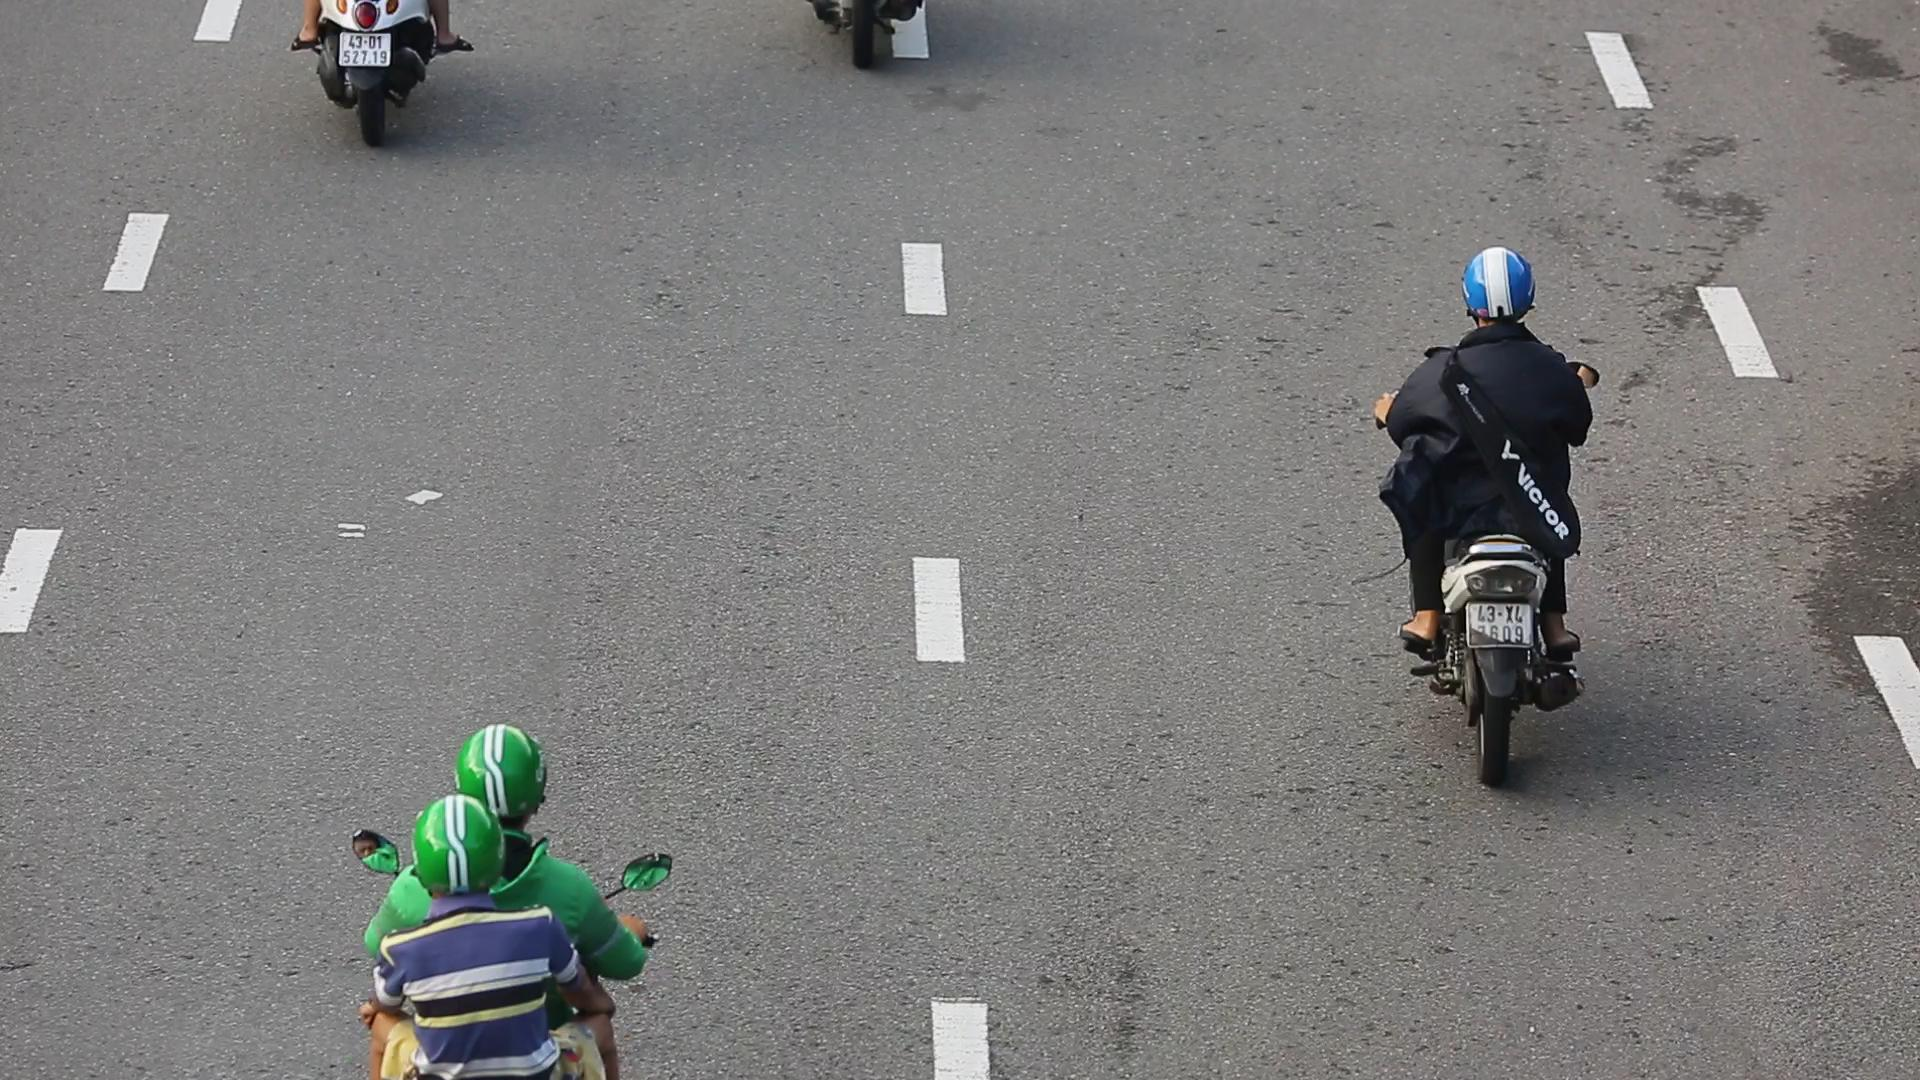motobike: (1373, 240, 1610, 791)
